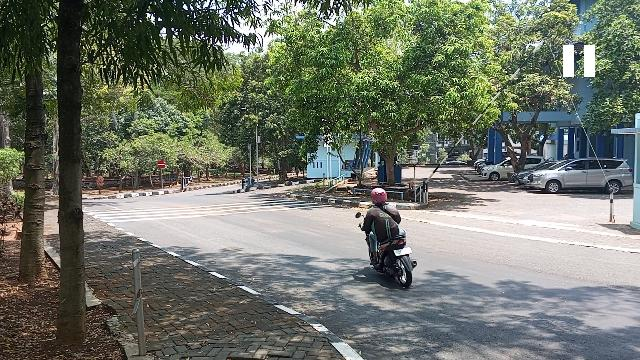helm: (373, 189, 388, 205)
motor: (366, 232, 418, 289)
